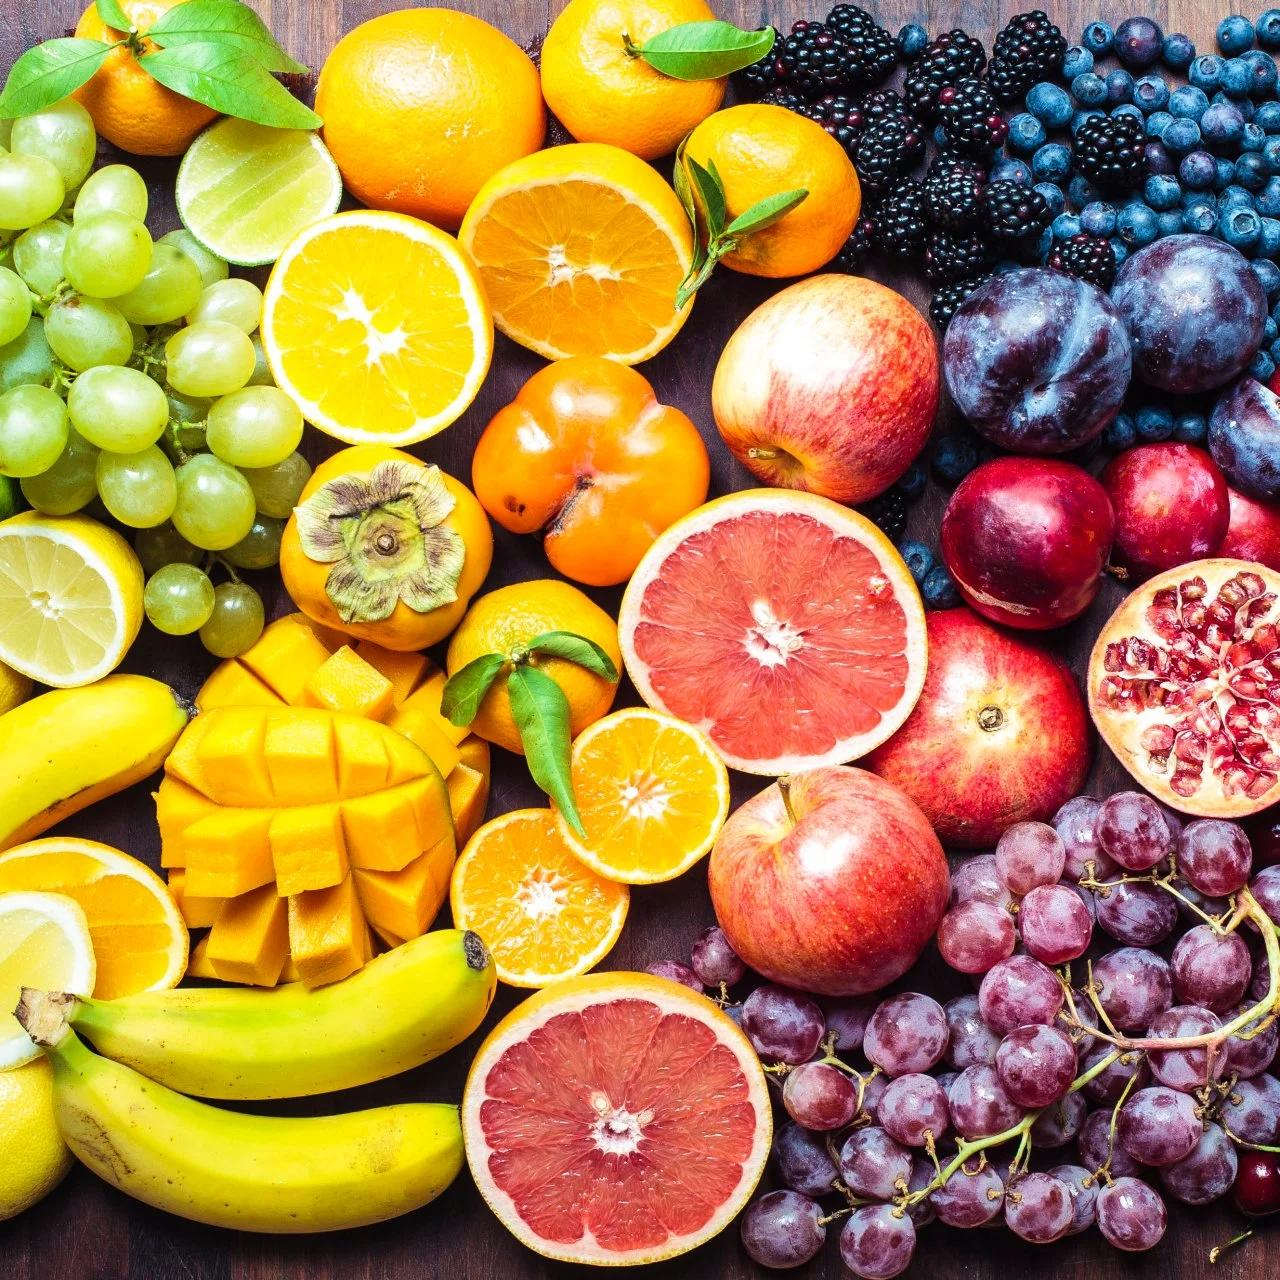apple: (704, 268, 949, 516), (704, 765, 954, 998), (915, 588, 1098, 839)
banana: (15, 975, 468, 1232)
grape: (13, 95, 260, 505), (978, 1015, 1088, 1102), (777, 1050, 864, 1133), (1123, 1076, 1204, 1164), (858, 986, 944, 1068), (750, 1185, 832, 1268), (20, 98, 98, 185), (190, 450, 256, 553), (830, 1198, 915, 1276), (77, 375, 166, 445), (7, 388, 74, 482), (100, 450, 178, 530), (1002, 1163, 1078, 1244), (1090, 1173, 1170, 1250), (1099, 783, 1172, 866), (73, 223, 148, 301), (215, 390, 297, 462), (1092, 863, 1170, 938), (48, 302, 134, 368), (748, 986, 828, 1056), (949, 896, 1020, 974), (980, 955, 1065, 1020), (1099, 946, 1160, 1036), (70, 165, 150, 225), (940, 1156, 1005, 1230), (172, 335, 256, 392), (1180, 926, 1240, 1003), (840, 1133, 918, 1192), (949, 1076, 1028, 1133), (1216, 1076, 1274, 1150), (878, 1073, 942, 1138), (1022, 885, 1080, 955), (135, 275, 207, 329), (157, 565, 210, 638), (1013, 825, 1078, 880), (11, 236, 76, 290), (1194, 825, 1248, 881), (200, 280, 263, 326)
lime: (170, 116, 336, 266)
mango: (143, 697, 450, 982)
orange: (263, 207, 486, 454), (468, 145, 702, 374), (302, 0, 549, 213), (452, 785, 622, 992), (554, 706, 736, 898), (0, 836, 200, 1002), (452, 573, 620, 757), (685, 116, 855, 284), (545, 0, 722, 154)
